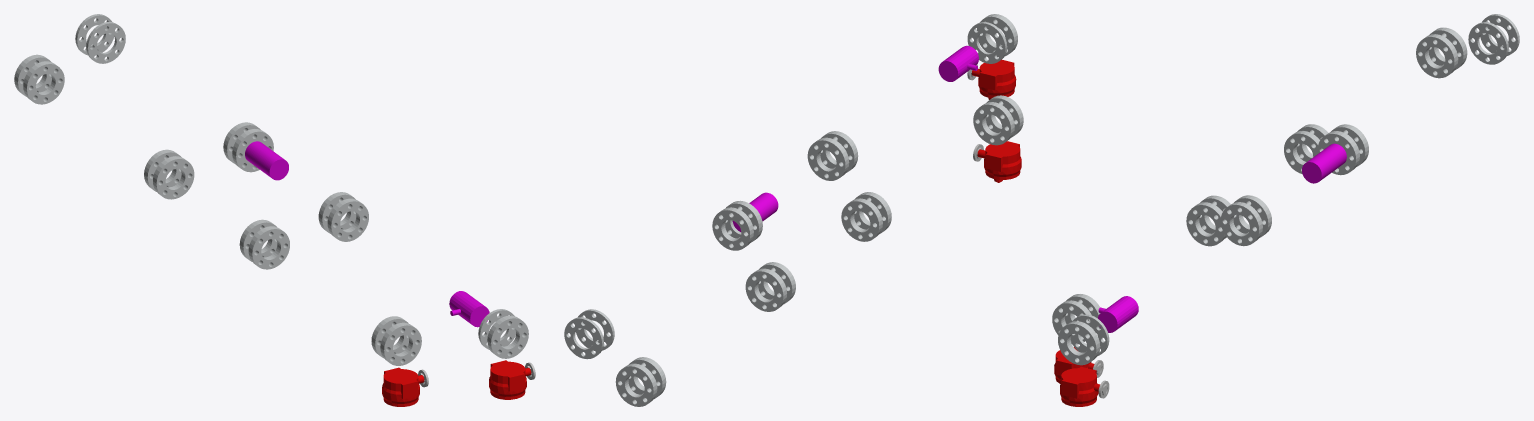
3 renders of one model, left to right at view 1: azimuth 30°, elevation 25°; view 2: azimuth 150°, elevation 25°; view 3: azimuth 330°, elevation 25°, orthographic.
Bounding box in the file's own units: 0.5797 × 0.6292 × 4.32.
